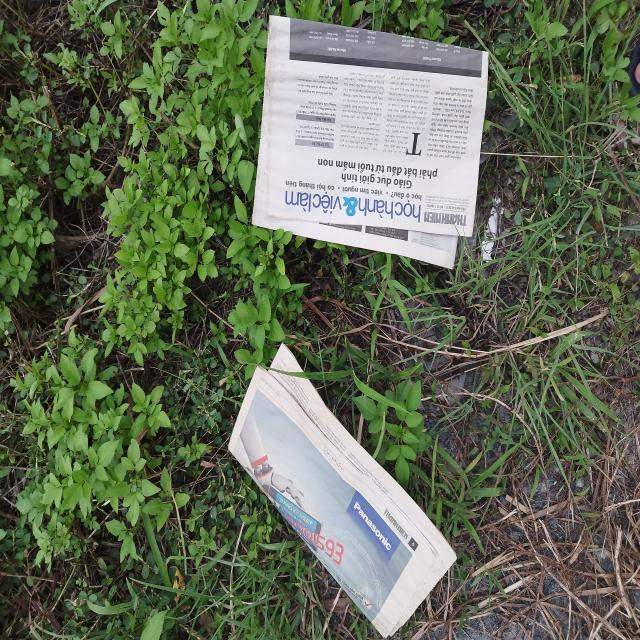paper: (227, 342, 457, 640), (252, 15, 488, 270)
